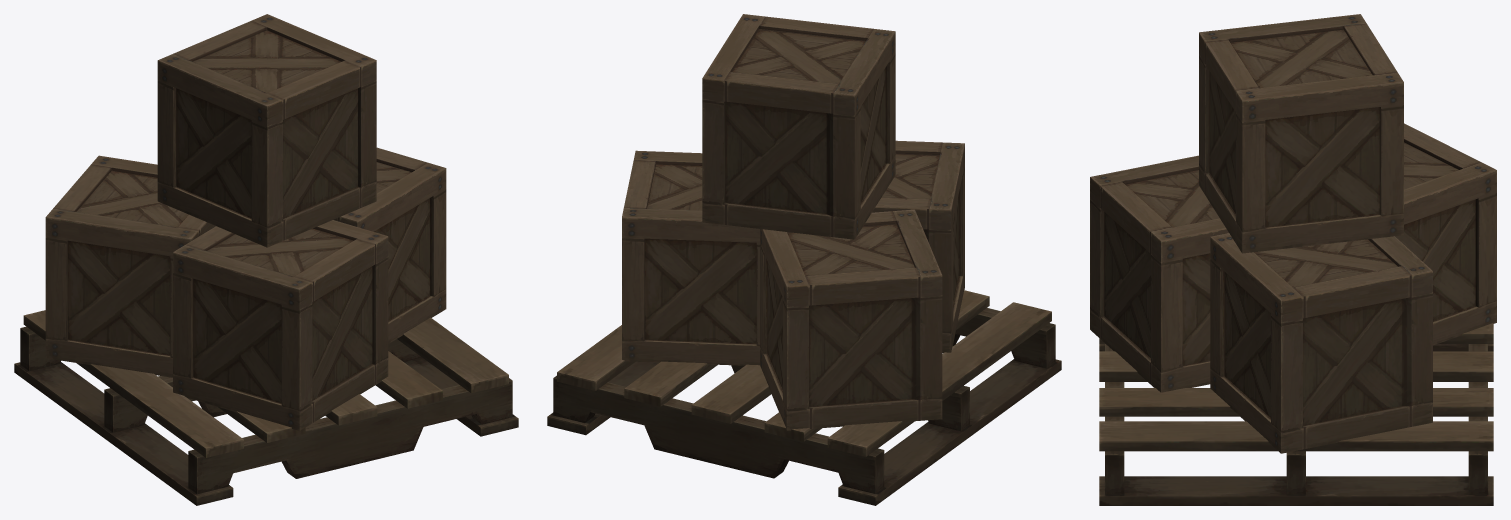
Rendered from AHBoxL1.FBX.
3 renders of one model, left to right at view 1: azimuth 30°, elevation 25°; view 2: azimuth 150°, elevation 25°; view 3: azimuth 270°, elevation 25°, orthographic. The views are drawn at different scales.
Parts seen in each view (by area): view 1: AHBoxL1; view 2: AHBoxL1; view 3: AHBoxL1.
Part boxes in pixels (x1,y1,x2,y2): AHBoxL1: (14, 14, 518, 505); AHBoxL1: (547, 14, 1061, 505); AHBoxL1: (1090, 14, 1496, 505).
Size of the model in its own units: 2 by 1.84 by 1.86.
Materials: 1 (1 with a texture image).
